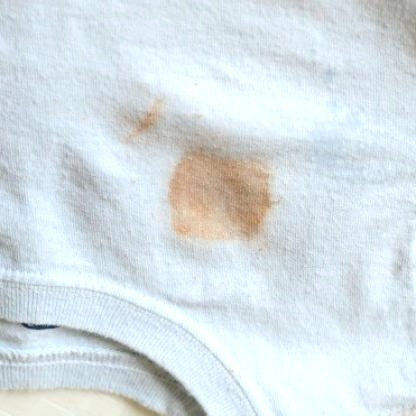kimchi: (165, 145, 286, 239), (121, 92, 163, 150)
